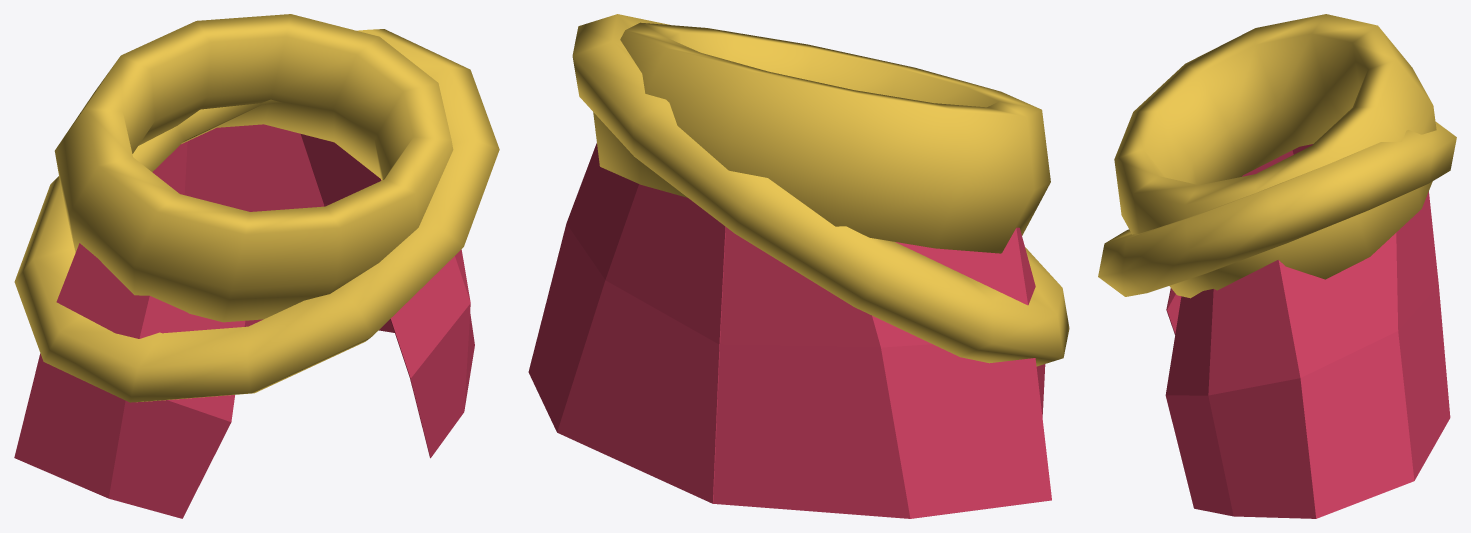
File: belt.fbx
3 renders of one model, left to right at view 1: azimuth 30°, elevation 25°; view 2: azimuth 150°, elevation 25°; view 3: azimuth 270°, elevation 25°, orthographic. The views are drawn at different scales.
Visible parts, largest first — view 1: GoldBelt, GoldBeltDiagonal, RedButtCloth, RedButtCloth.001; view 2: RedButtCloth, GoldBelt, RedButtCloth.001, GoldBeltDiagonal; view 3: RedButtCloth.001, GoldBelt, GoldBeltDiagonal, RedButtCloth.
Part boxes in pixels (<box>): GoldBelt: <box>54,14,453,322</box>; GoldBeltDiagonal: <box>14,29,499,402</box>; RedButtCloth: <box>14,141,245,518</box>; RedButtCloth.001: <box>184,124,474,458</box>; RedButtCloth: <box>713,227,1051,518</box>; GoldBelt: <box>593,22,1050,253</box>; RedButtCloth.001: <box>528,143,725,503</box>; GoldBeltDiagonal: <box>572,14,1069,366</box>; RedButtCloth.001: <box>1165,191,1450,518</box>; GoldBelt: <box>1114,14,1436,298</box>; GoldBeltDiagonal: <box>1098,122,1456,296</box>; RedButtCloth: <box>1166,144,1312,334</box>.
Bounding box in the file's own units: 144 × 117 × 98.8.
